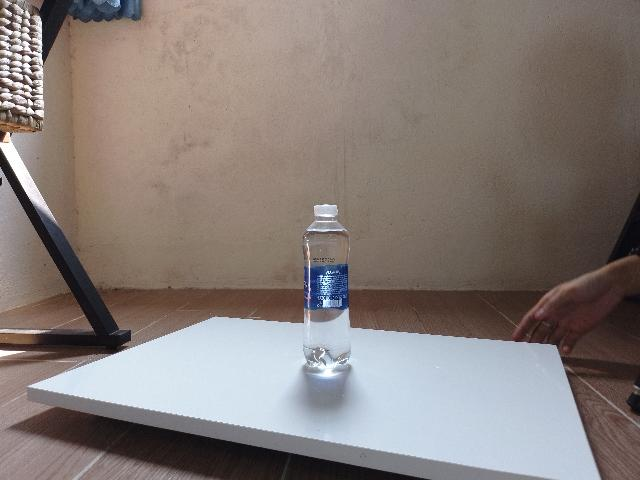aquafina: (302, 204, 351, 374)
